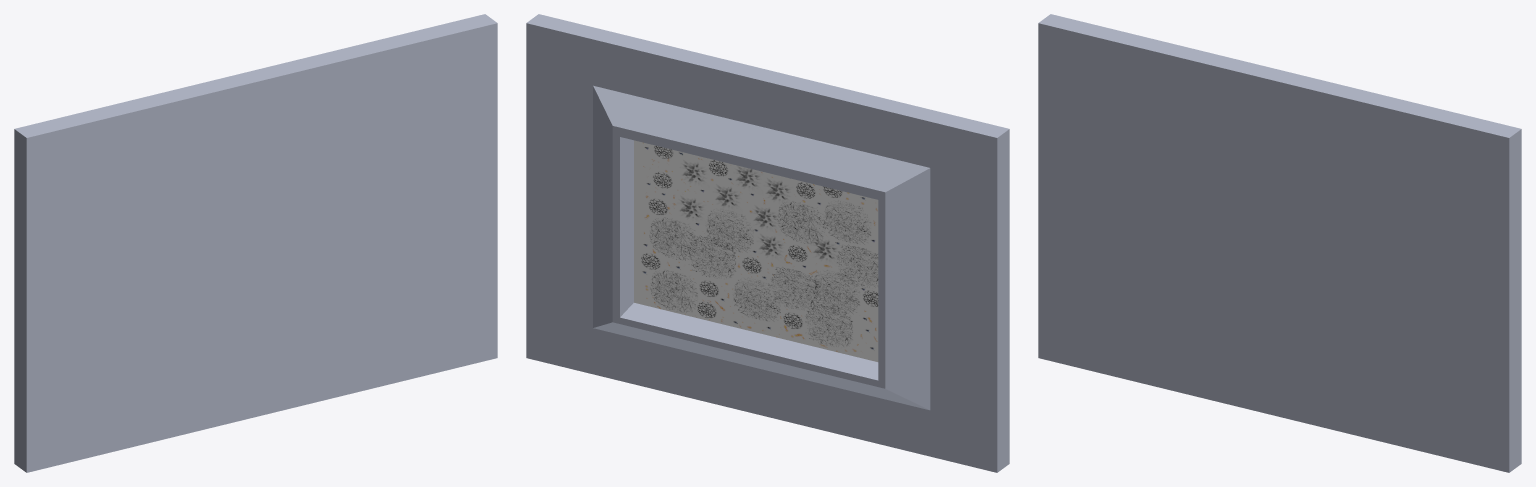
The model's file is Cellouse_Art.fbx.
3 renders of one model, left to right at view 1: azimuth 30°, elevation 25°; view 2: azimuth 150°, elevation 25°; view 3: azimuth 330°, elevation 25°, orthographic.
Visible parts, largest first — view 1: Cellouse; view 2: Cellouse, Image.001; view 3: Cellouse.
Part boxes in pixels (x1,y1,x2,y2): Cellouse: [14, 14, 497, 472]; Cellouse: [526, 14, 1009, 472]; Image.001: [634, 140, 878, 361]; Cellouse: [1038, 14, 1521, 472].
Bounding box in the file's own units: 1418 × 963 × 131.
Materials: 2 (1 with a texture image).
